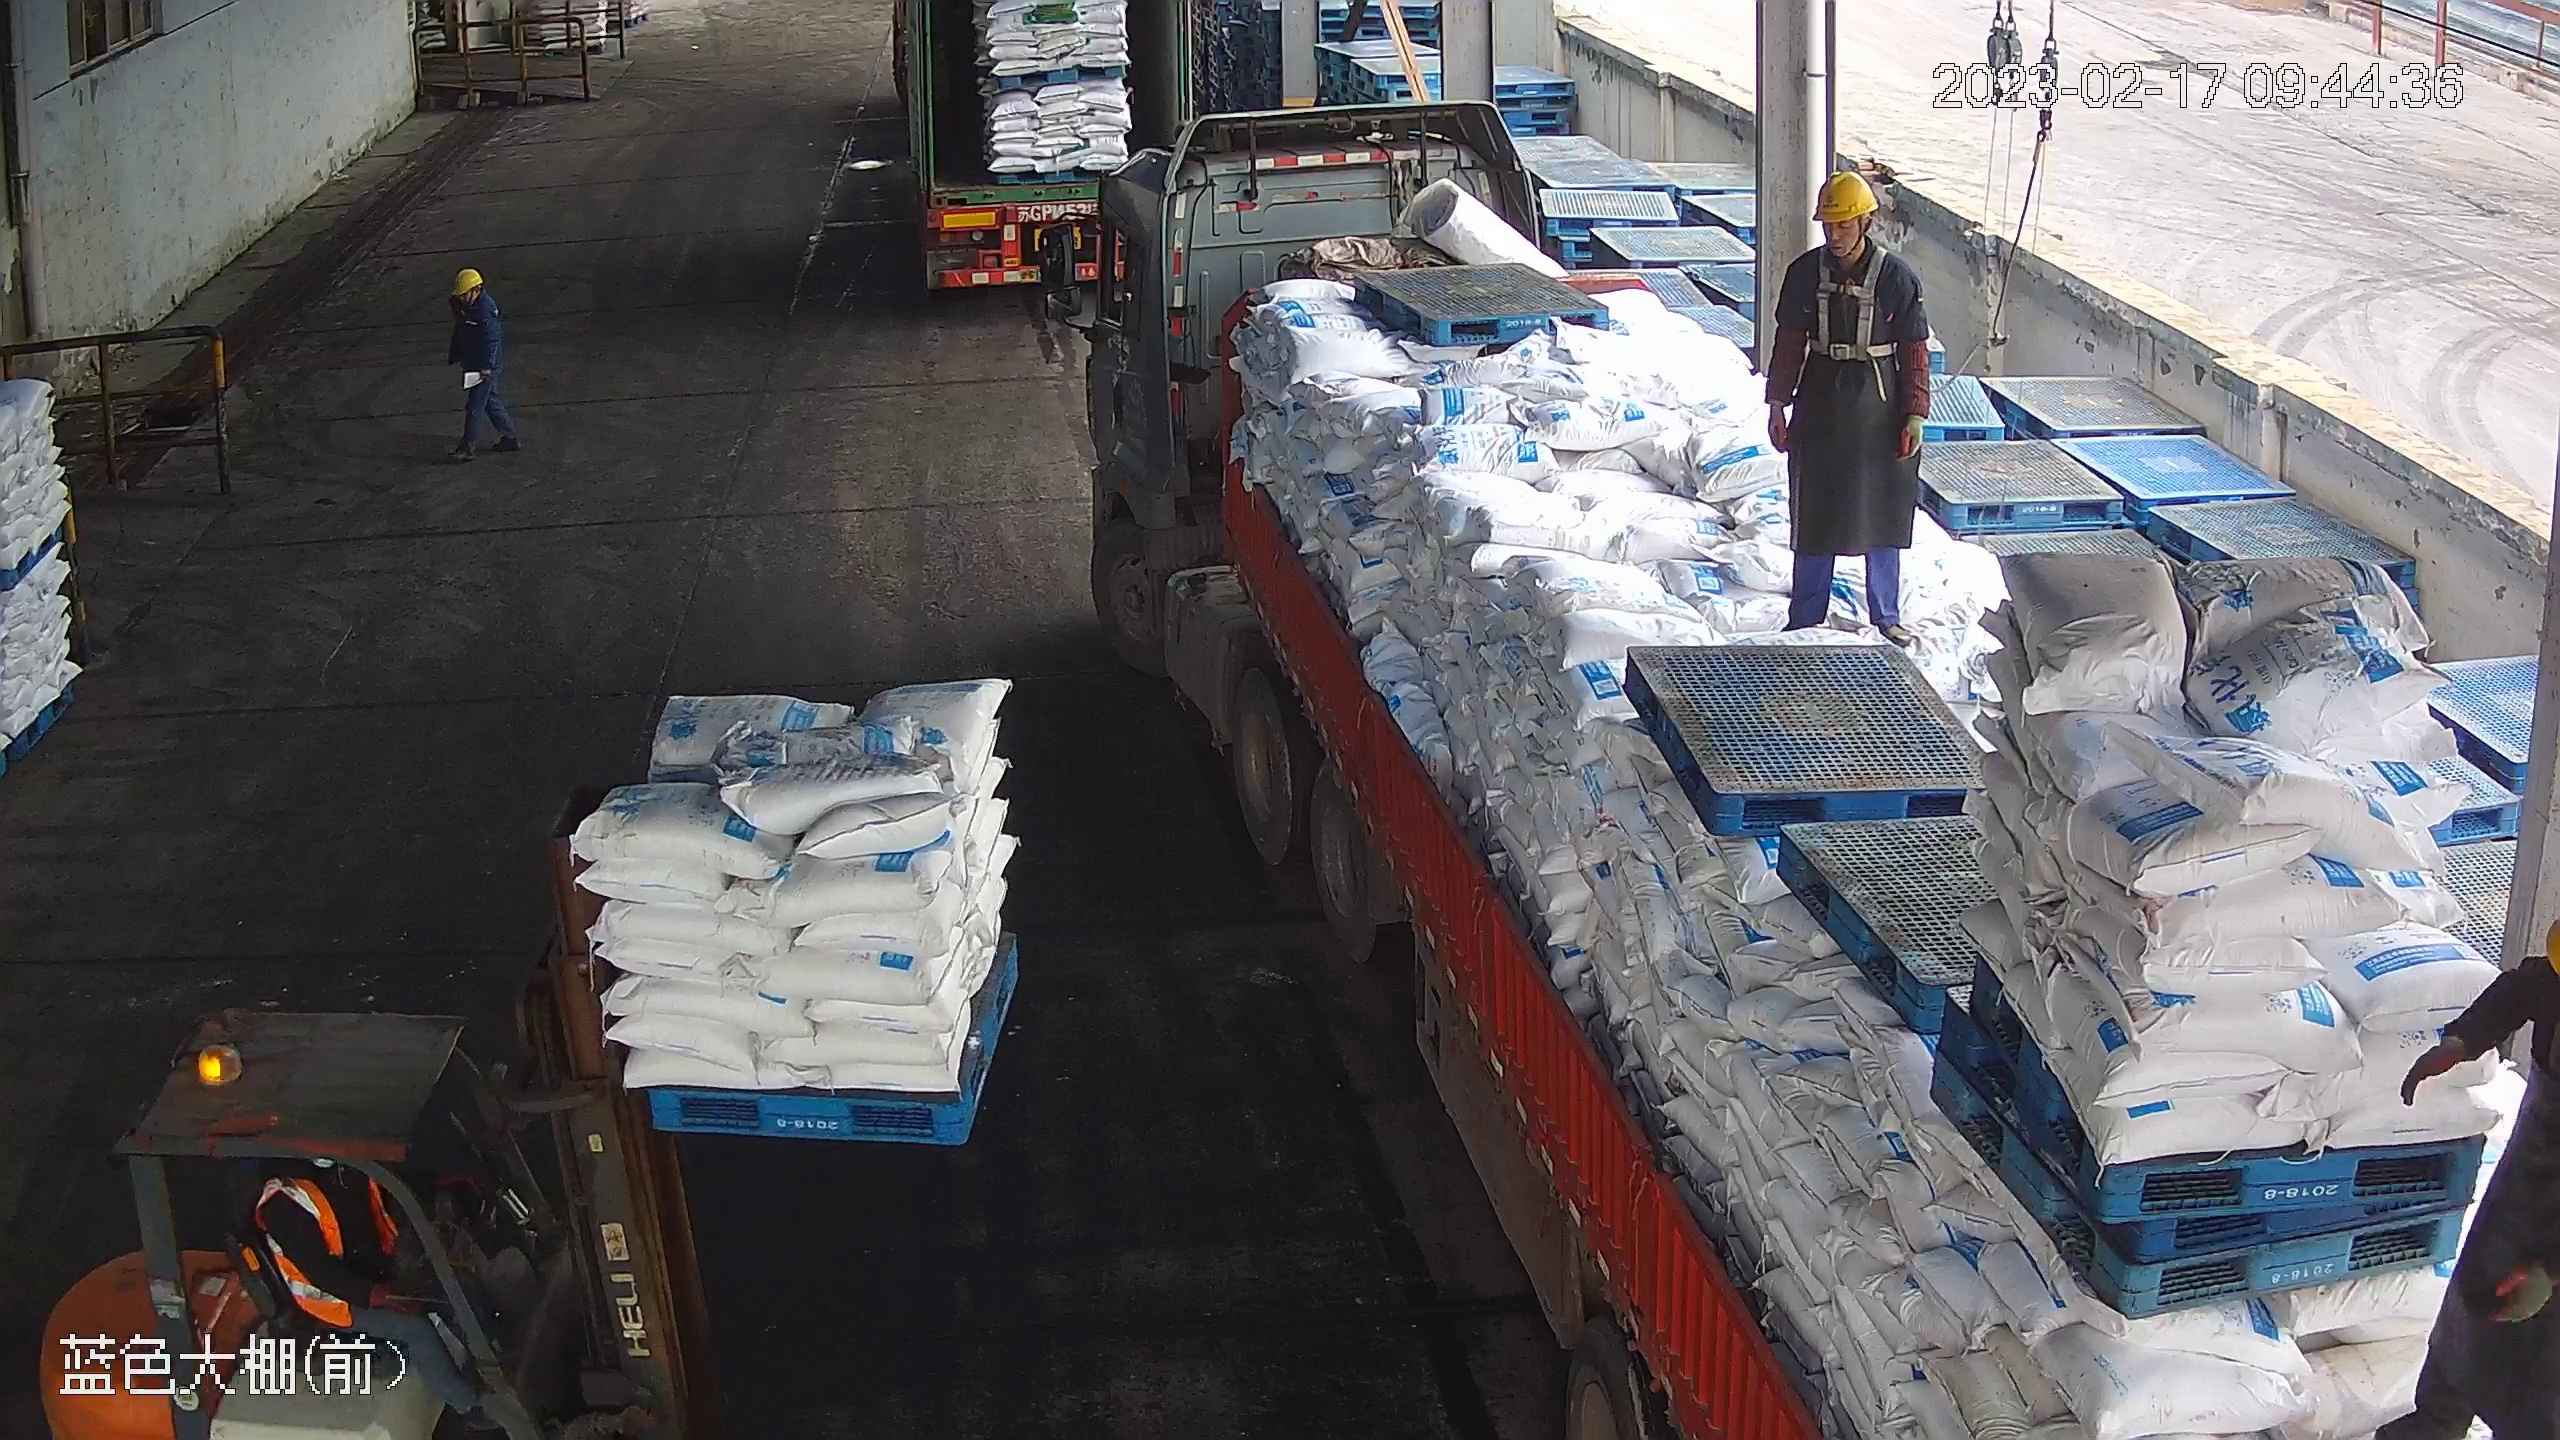belt: (1809, 240, 1897, 359)
head: (1778, 168, 1922, 303), (445, 268, 499, 336)
helmet: (1814, 166, 1881, 220), (453, 267, 481, 291)
people: (1763, 167, 1934, 638), (442, 265, 522, 460)
truck: (1064, 73, 2557, 1440), (899, 12, 1235, 301)
